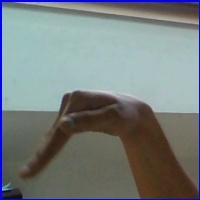A: (23, 82, 155, 181)
